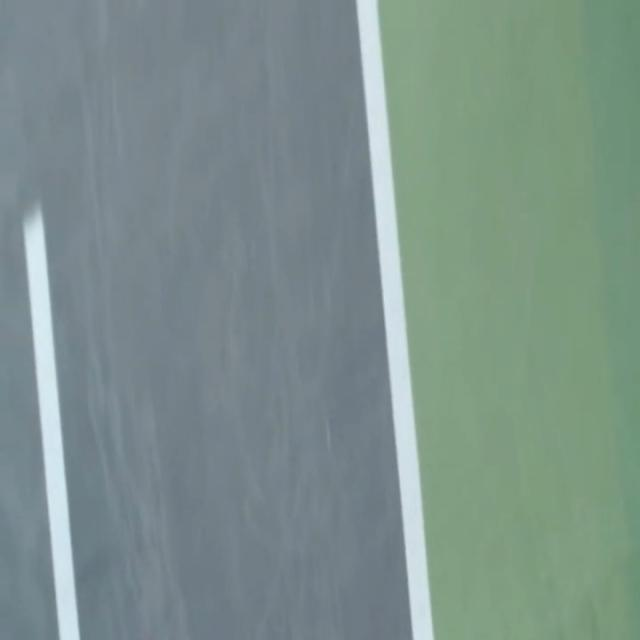center: (23, 205, 80, 639)
